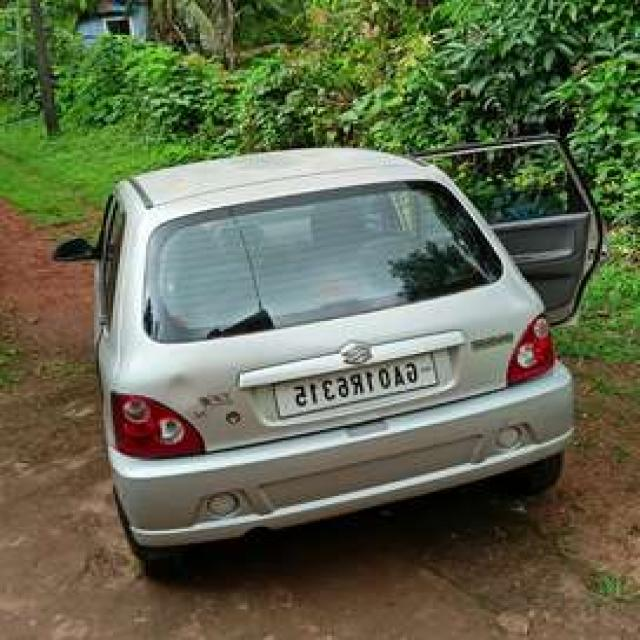license_plate: (272, 348, 439, 420)
